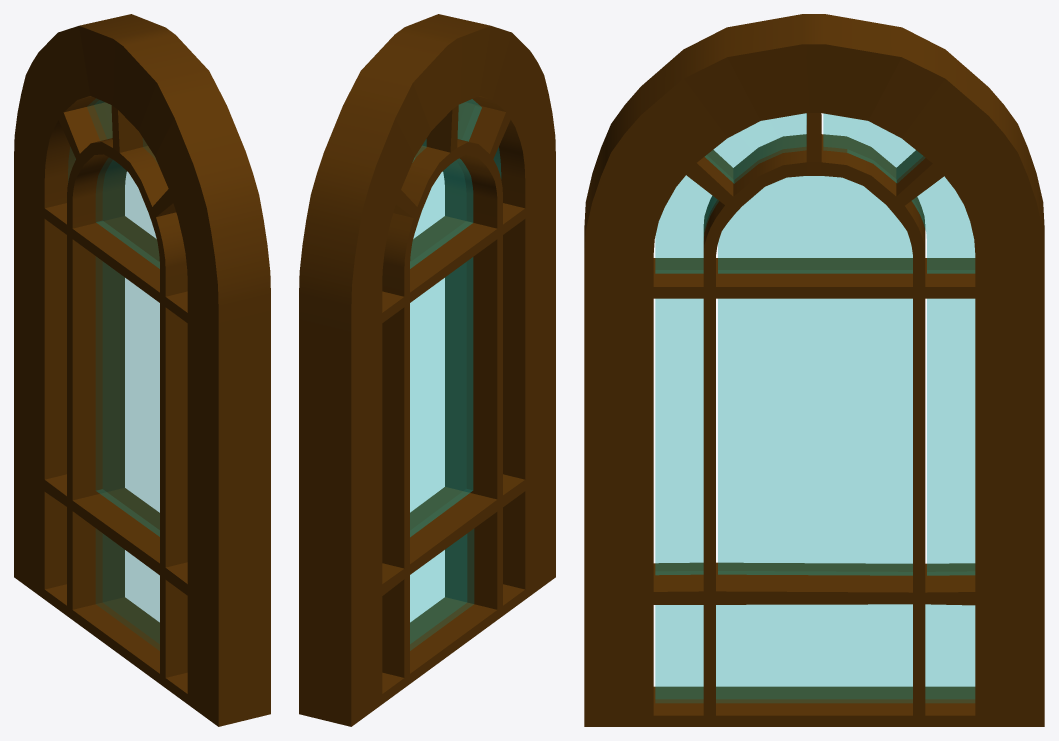
File: Arco con vidrio.fbx
3 renders of one model, left to right at view 1: azimuth 30°, elevation 25°; view 2: azimuth 150°, elevation 25°; view 3: azimuth 270°, elevation 25°, orthographic. The views are drawn at different scales.
Visible parts, largest first — view 1: Pared_Arco_con_Vidrio; view 2: Pared_Arco_con_Vidrio; view 3: Pared_Arco_con_Vidrio.
Part boxes in pixels (x1,y1,x2,y2): Pared_Arco_con_Vidrio: (14,14,270,726); Pared_Arco_con_Vidrio: (299,14,555,726); Pared_Arco_con_Vidrio: (584,14,1044,726).
Bounding box in the file's own units: 0.3584 × 3.74 × 2.27.
